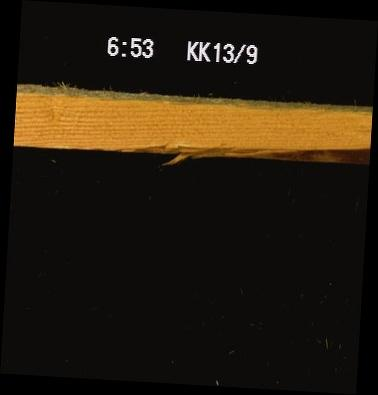wave: (105, 131, 369, 170)
